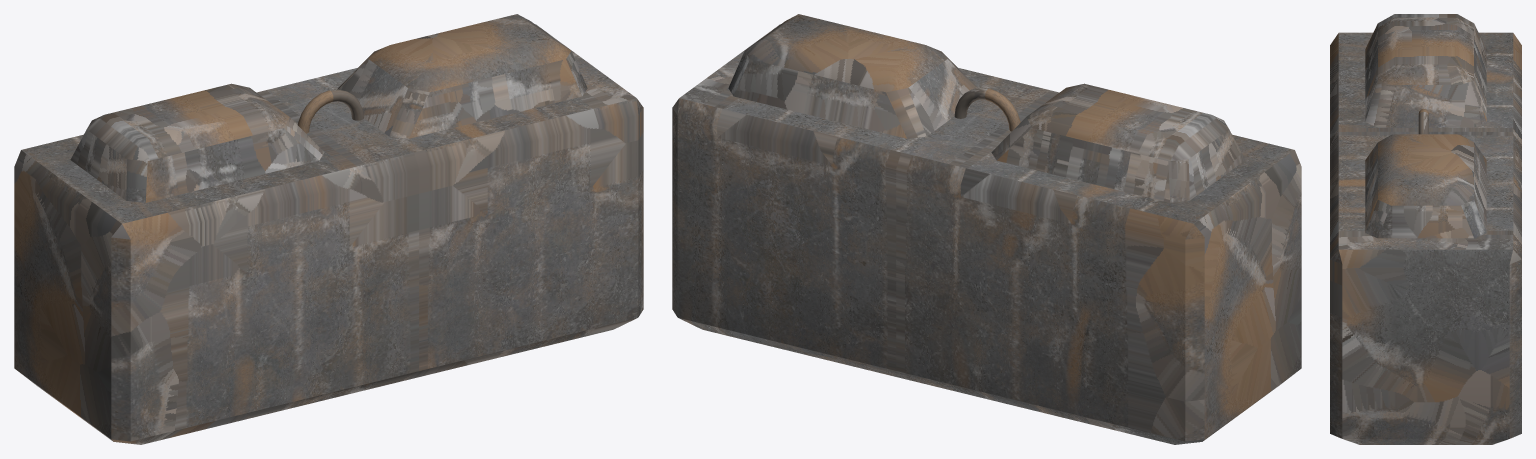
3 views of the same model, side by side, from view 1: azimuth 30°, elevation 25°; view 2: azimuth 150°, elevation 25°; view 3: azimuth 270°, elevation 25° (orthographic). The views are drawn at different scales.
Parts seen in each view (by area): view 1: Box004; view 2: Box004; view 3: Box004.
Part boxes in pixels (box(x1,y1,x2,y2)): Box004: box(14, 14, 643, 444); Box004: box(672, 14, 1301, 444); Box004: box(1330, 14, 1521, 444).
Bounding box in the file's own units: 152 × 75.03 × 55.09.
